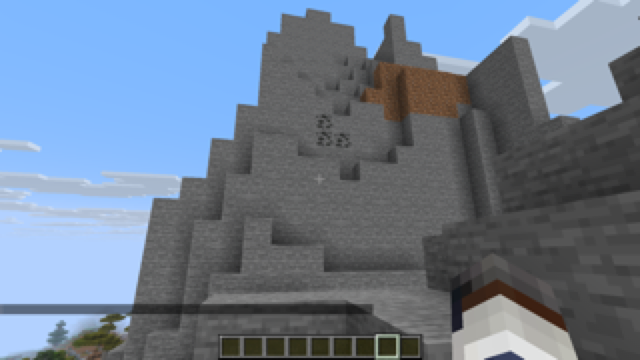coal: (314, 111, 353, 149)
